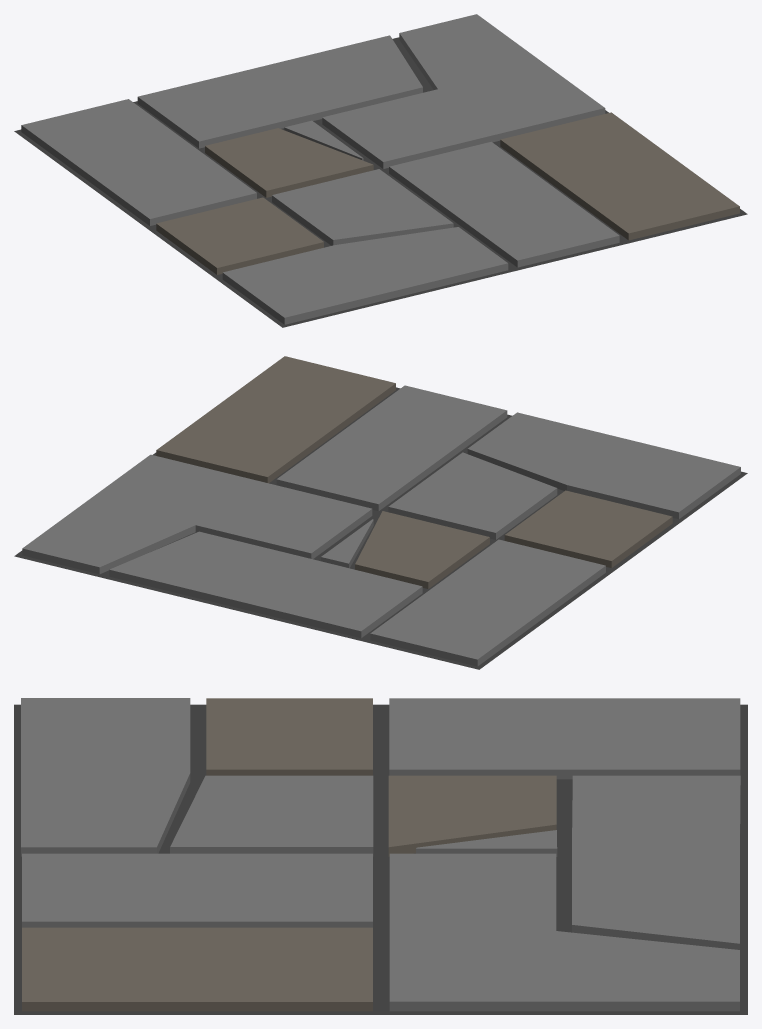
Rendered from Walkway Modern C.fbx.
3 renders of one model, top to bottom at view 1: azimuth 30°, elevation 25°; view 2: azimuth 150°, elevation 25°; view 3: azimuth 270°, elevation 25°, orthographic. The views are drawn at different scales.
Parts seen in each view (by area): view 1: Walkway Modern C.001; view 2: Walkway Modern C.001; view 3: Walkway Modern C.001.
Part boxes in pixels (x1=…): Walkway Modern C.001: x1=14, y1=14, x2=747, y2=327; Walkway Modern C.001: x1=14, y1=356, x2=747, y2=669; Walkway Modern C.001: x1=14, y1=698, x2=747, y2=1014.
Size of the model in its own units: 305 by 305 by 4.42.
